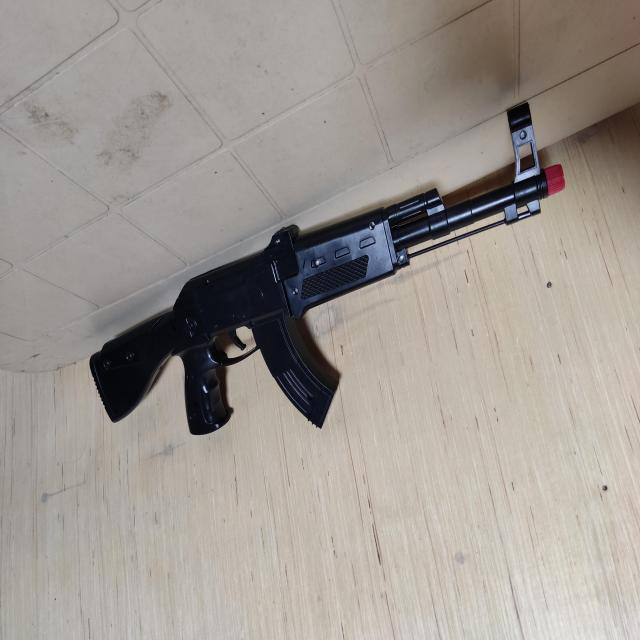rifle: (88, 102, 564, 434)
